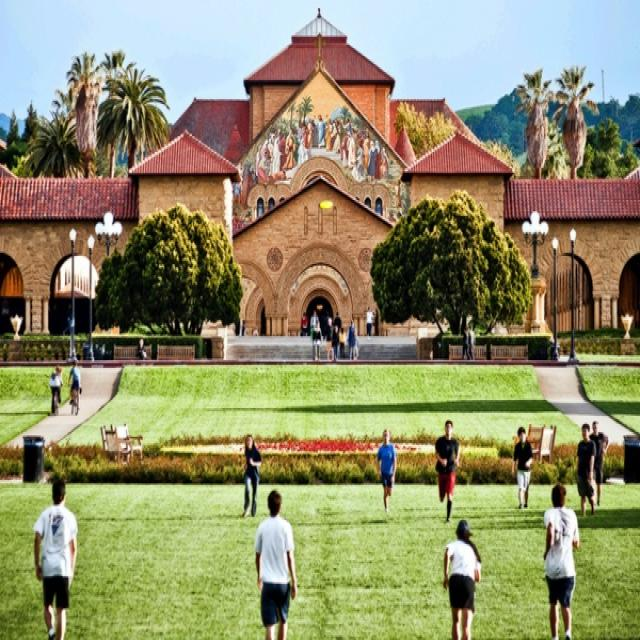body: (232, 110, 392, 202), (32, 476, 79, 638), (252, 486, 298, 638), (541, 480, 581, 638), (440, 516, 484, 638), (298, 302, 381, 360), (433, 416, 461, 523), (575, 421, 598, 520), (375, 426, 398, 515), (510, 424, 533, 510), (588, 419, 610, 507), (241, 432, 262, 518), (48, 364, 64, 414), (67, 356, 82, 409), (460, 324, 471, 362), (465, 322, 474, 360), (136, 336, 147, 366)
